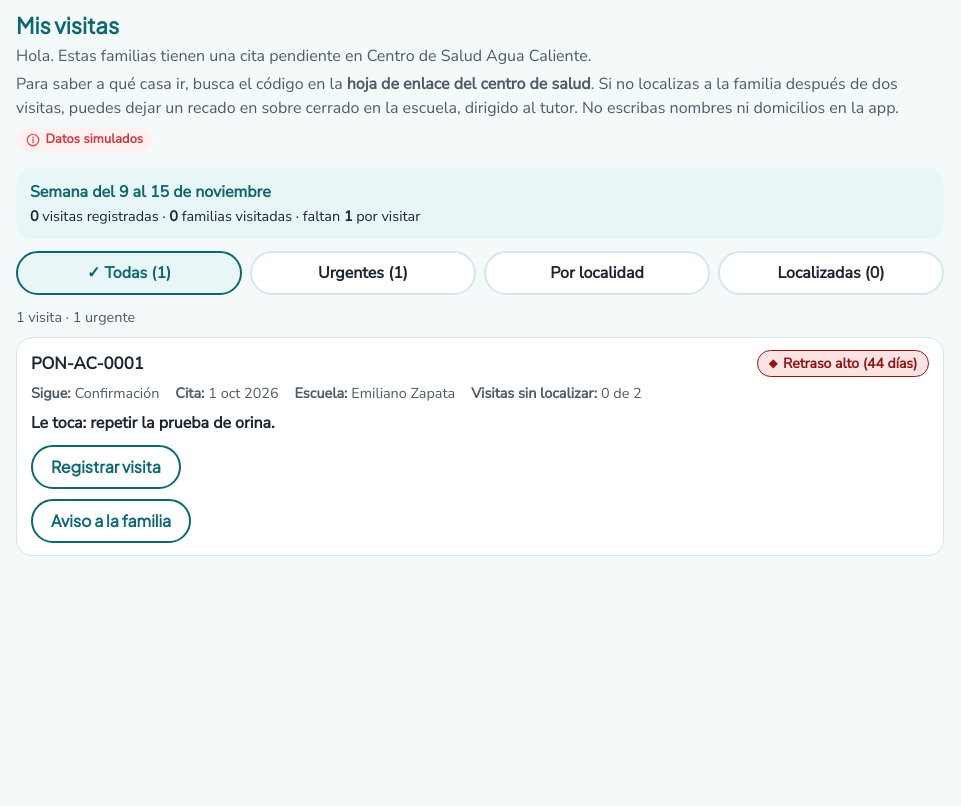
it: Registrar visita (HU05) › guarda la visita con nota y actualiza la tarjeta
This screenshot has width=961, height=806.
Click the button "Registrar visita". click: (106, 467)
box: top-left (31, 445), bottom-right (181, 489)
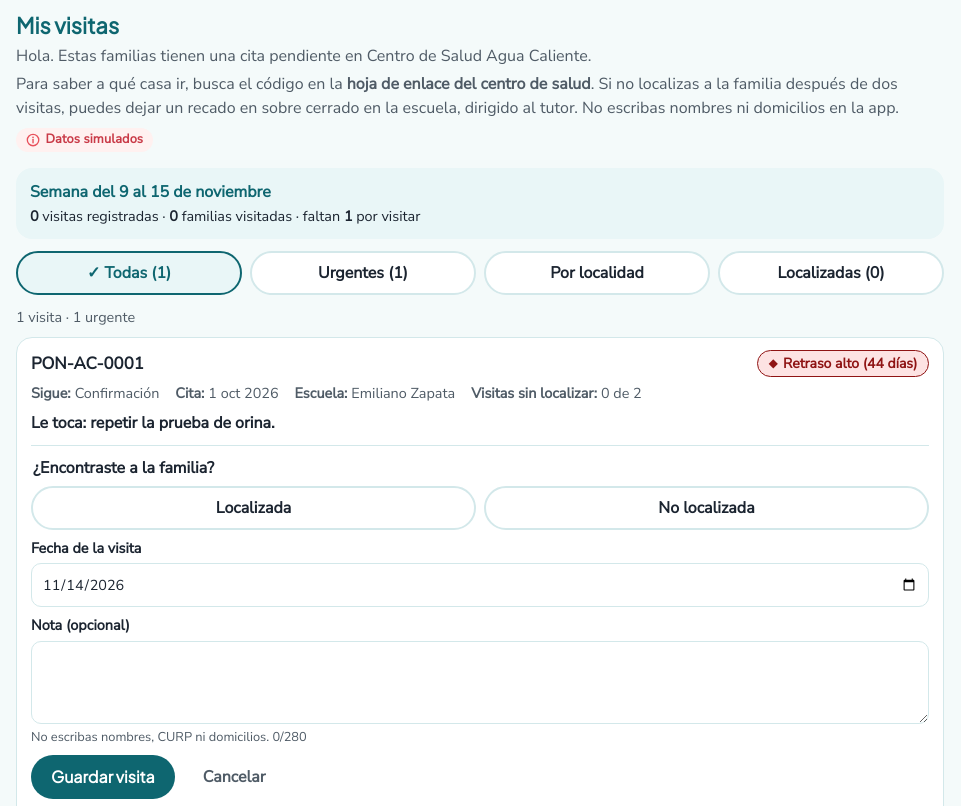
Click the button "No localizada". click: (706, 508)
box: top-left (484, 486), bottom-right (929, 530)
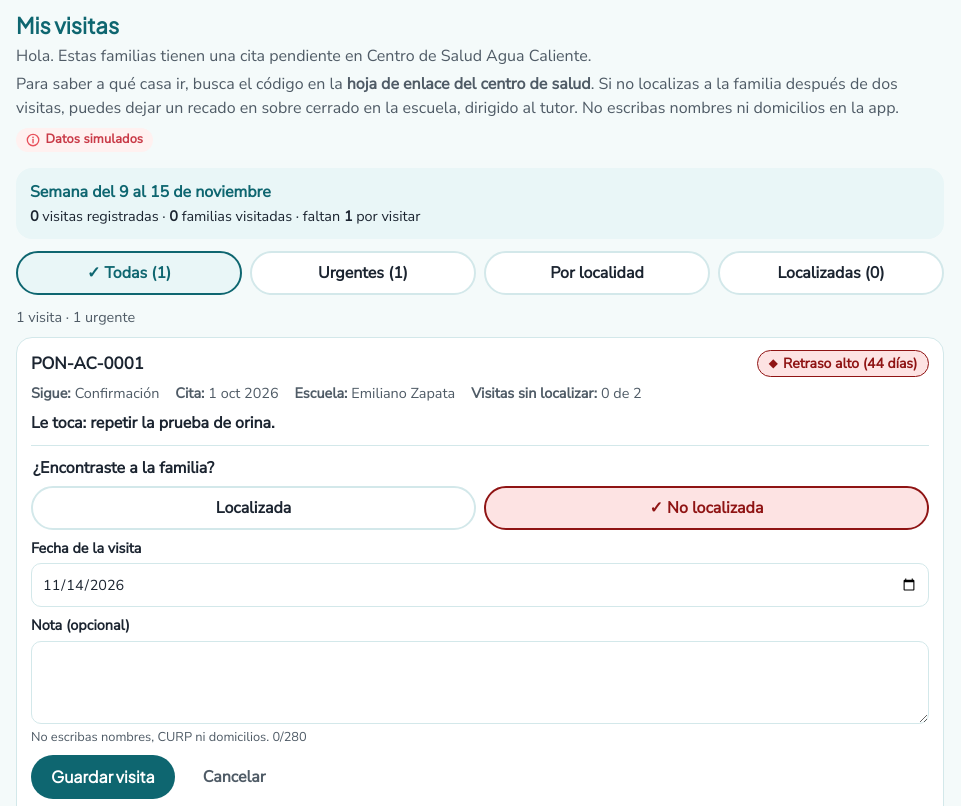
Type "No había nadie en casa" into the text box labelled "Nota". click: (480, 682)
box: top-left (31, 641), bottom-right (929, 724)
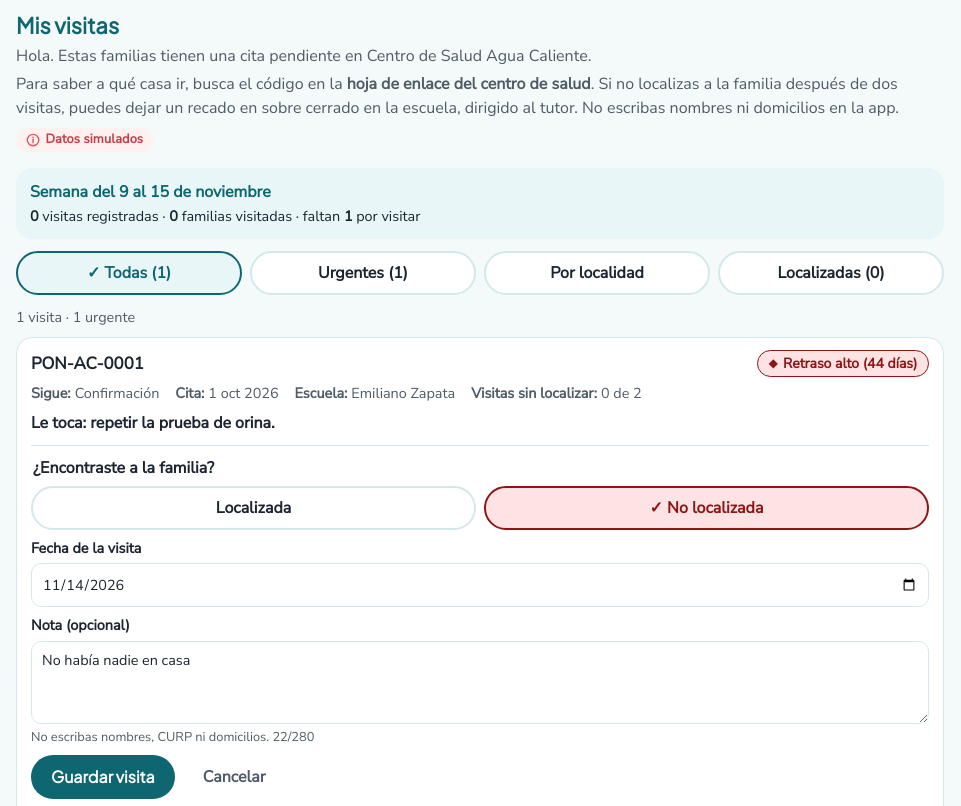
Click the button "Guardar visita". click: (103, 777)
box: top-left (31, 755), bottom-right (175, 799)
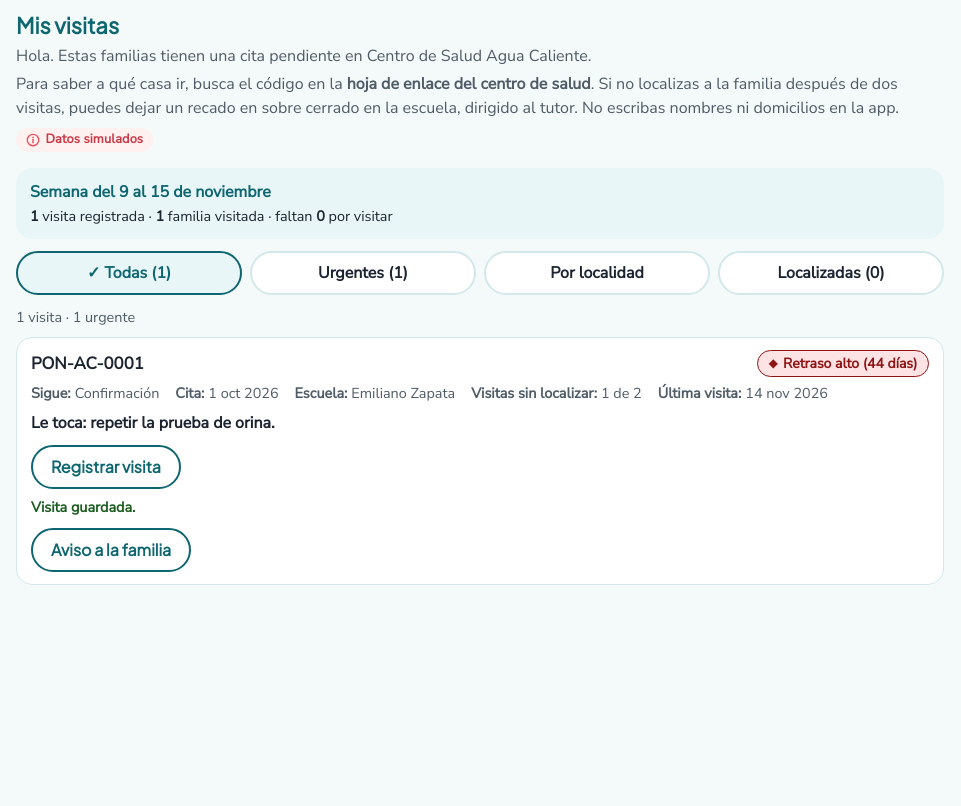
Expected: the message reads "Visita guardada.", top-left (31, 497), bottom-right (135, 517)
Expected: the text "1 de 2" is shown, top-left (601, 383), bottom-right (642, 405)
